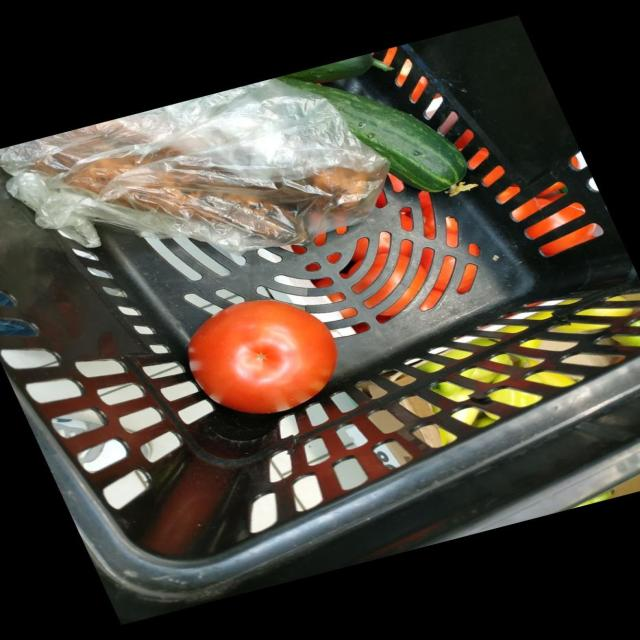carrot: (166, 104, 525, 305), (140, 112, 415, 315), (94, 99, 274, 289), (35, 86, 100, 266)
cucumber: (185, 80, 594, 265), (196, 33, 569, 93)
tomato: (154, 155, 432, 456)
